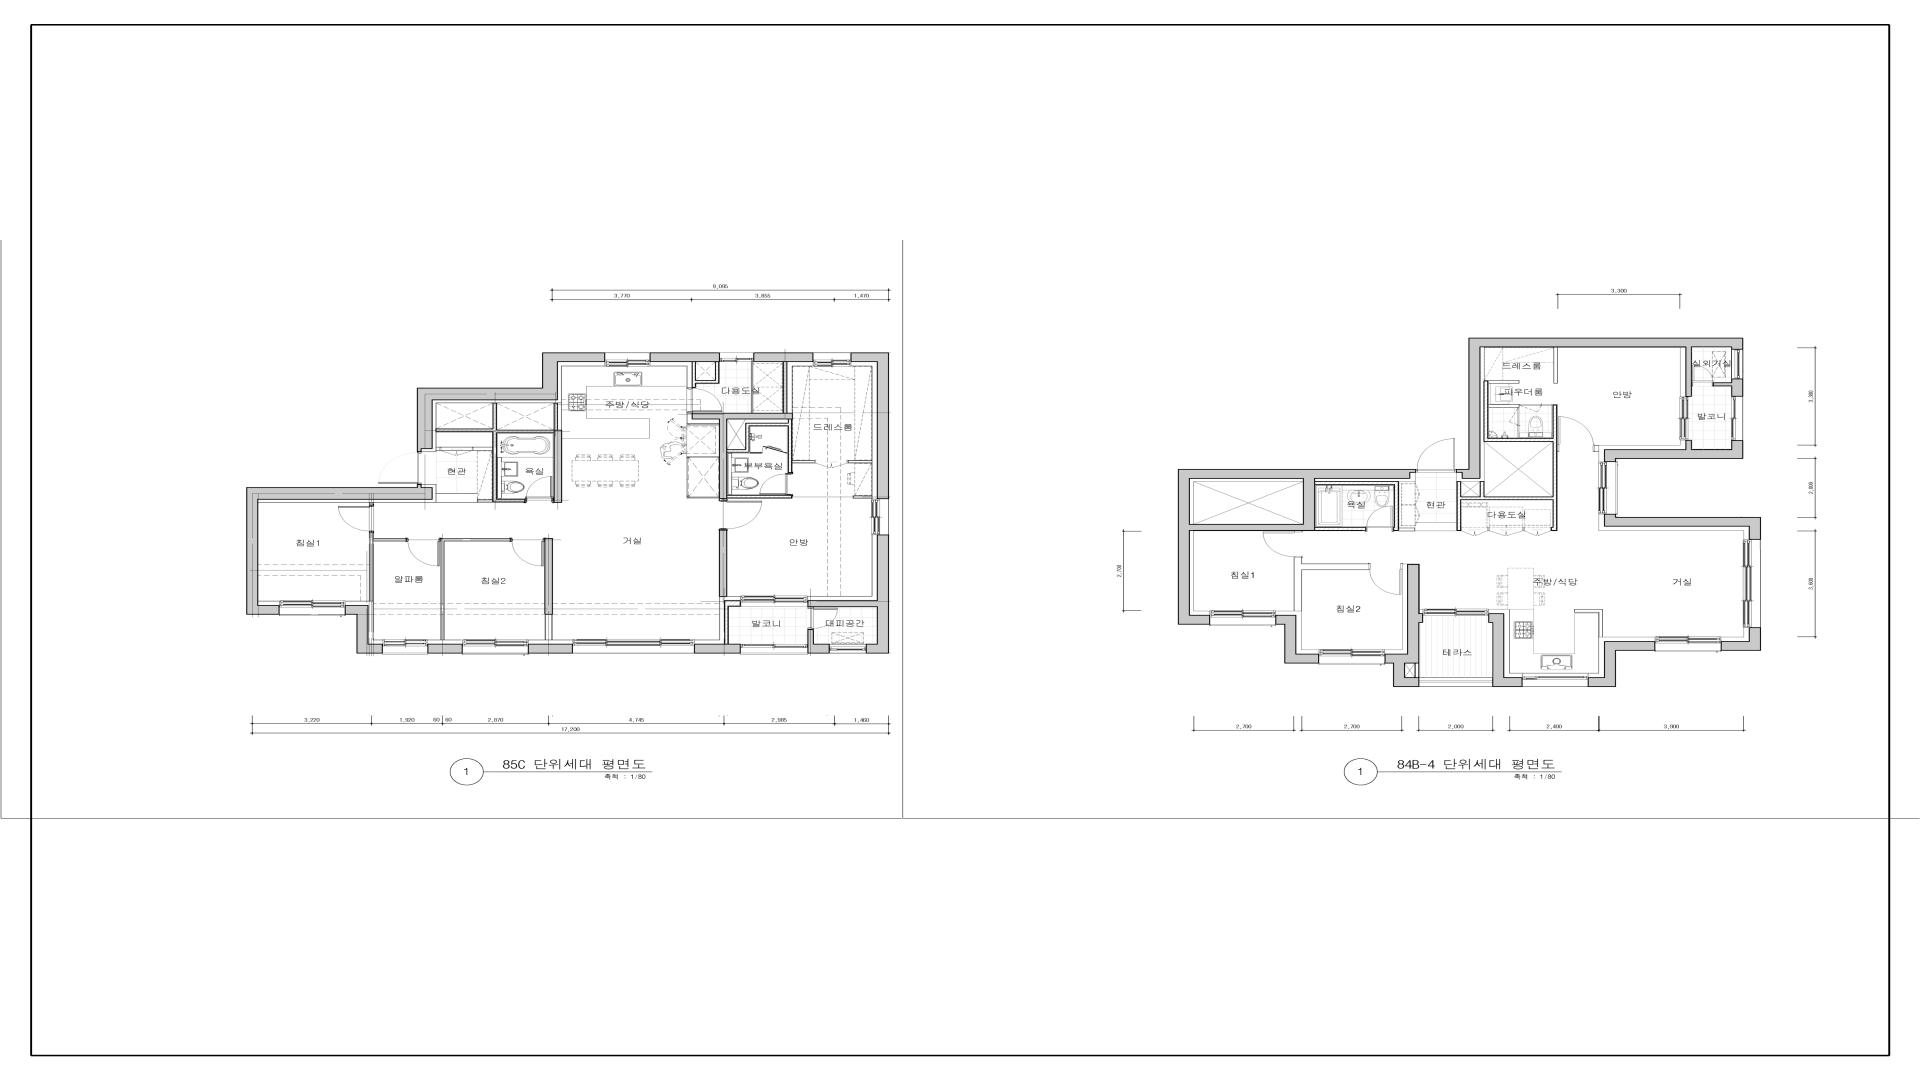door: (719, 498, 762, 530), (378, 452, 422, 484), (1557, 417, 1594, 452), (1416, 439, 1456, 472), (1369, 563, 1403, 595), (1262, 531, 1303, 558), (406, 538, 440, 567), (339, 505, 375, 533), (510, 538, 545, 566), (760, 472, 793, 495), (1366, 506, 1393, 531), (808, 607, 837, 629), (1692, 365, 1713, 386), (1489, 527, 1523, 537), (815, 460, 848, 468), (440, 447, 473, 455), (1461, 527, 1489, 537), (1524, 527, 1551, 535), (1519, 405, 1543, 413), (1510, 407, 1519, 426)
wall: (1456, 338, 1743, 479), (1178, 469, 1416, 625), (247, 484, 433, 615), (417, 352, 605, 452), (687, 363, 815, 498), (1457, 381, 1557, 531), (435, 404, 562, 502), (807, 535, 889, 654), (440, 538, 510, 640), (1189, 479, 1315, 531), (852, 352, 889, 500), (1315, 481, 1415, 531), (1385, 564, 1423, 687), (1294, 558, 1369, 612), (1604, 514, 1762, 539), (1588, 641, 1656, 687), (1604, 440, 1743, 462), (369, 533, 406, 601), (1489, 613, 1523, 687), (1275, 615, 1319, 663), (344, 605, 382, 654), (1721, 628, 1762, 651), (545, 538, 553, 641), (1575, 609, 1604, 637), (724, 600, 741, 645), (650, 352, 720, 363), (692, 363, 720, 388), (753, 352, 814, 363), (719, 530, 728, 597), (807, 629, 829, 654), (1713, 378, 1743, 397), (694, 644, 741, 654), (529, 644, 572, 654), (427, 644, 463, 654), (1316, 527, 1366, 531), (1553, 348, 1557, 384), (1489, 380, 1519, 384), (1489, 405, 1519, 407), (848, 460, 872, 463), (1415, 663, 1419, 678), (853, 496, 872, 498), (1594, 446, 1600, 451), (435, 447, 440, 451), (1518, 426, 1519, 438), (369, 502, 375, 505), (1542, 405, 1552, 406)
window: (572, 640, 695, 654), (1743, 539, 1762, 628), (463, 640, 529, 655), (280, 600, 345, 616), (1211, 611, 1275, 626), (1598, 463, 1618, 514), (1319, 650, 1385, 665), (1423, 609, 1489, 624), (1656, 637, 1721, 651), (1523, 674, 1588, 687), (740, 645, 808, 655), (382, 640, 427, 655), (741, 596, 807, 607), (1419, 678, 1493, 687), (605, 352, 650, 367), (872, 500, 889, 534), (814, 352, 852, 367), (1680, 397, 1692, 440), (1731, 397, 1743, 440), (1731, 349, 1743, 378), (829, 645, 866, 654), (720, 352, 753, 361)
